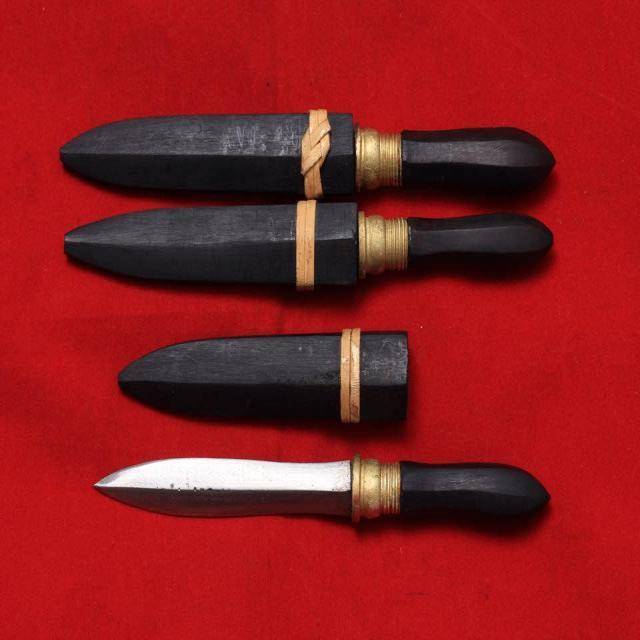short sword: (76, 327, 574, 550), (32, 77, 580, 209), (49, 204, 571, 320)
